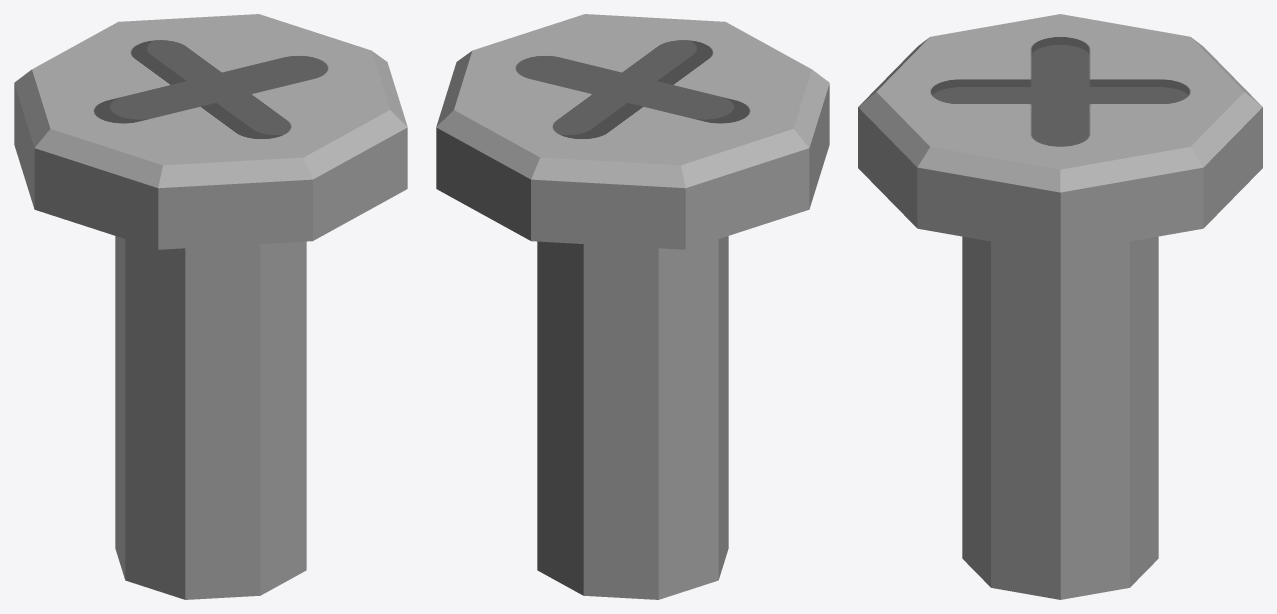
The model's file is ST_neji.fbx.
3 views of the same model, side by side, from view 1: azimuth 30°, elevation 25°; view 2: azimuth 150°, elevation 25°; view 3: azimuth 270°, elevation 25° (orthographic).
Visible parts, largest first — view 1: neji; view 2: neji; view 3: neji.
Part boxes in pixels (x1,y1,x2,y2): neji: (14, 14, 407, 599); neji: (436, 14, 829, 599); neji: (858, 14, 1262, 599).
Bounding box in the file's own units: 2.07 × 2.63 × 2.07.
1 material, 1 textured.
